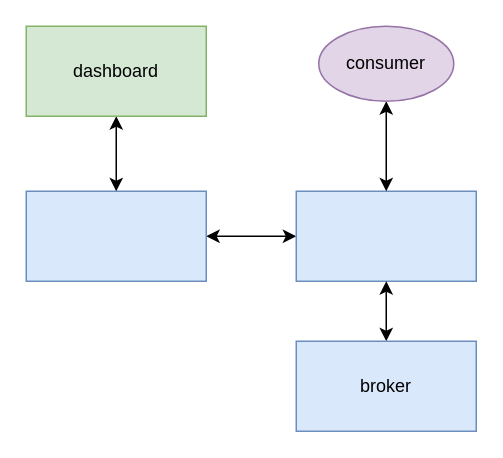
This 503x458 diagram has some shape labels left out. The box of each missing label's shape, as (x1, y1, x2, y2) in pixels:
proxy: (295, 190, 476, 281)
zk: (25, 190, 206, 281)
